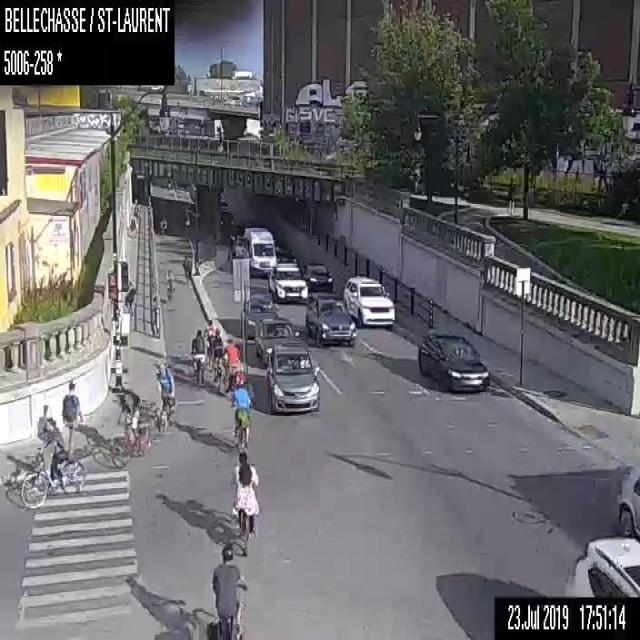cyclist: (21, 416, 85, 507), (211, 542, 247, 638), (114, 388, 154, 465), (231, 452, 258, 552), (154, 362, 175, 433), (231, 382, 251, 450), (220, 337, 239, 399), (209, 327, 223, 395), (190, 328, 205, 385), (203, 319, 214, 366), (165, 269, 175, 301), (182, 254, 190, 285), (160, 213, 166, 234)
pedestrian: (60, 378, 82, 454), (34, 401, 51, 464), (124, 278, 135, 315), (126, 212, 138, 236), (508, 176, 514, 213), (133, 198, 138, 220)
vehicle: (561, 536, 639, 596), (416, 332, 490, 392), (266, 346, 318, 411), (305, 292, 356, 346), (343, 276, 394, 326), (254, 317, 299, 365), (240, 294, 279, 337), (617, 465, 639, 538), (267, 262, 307, 300), (244, 227, 275, 274), (303, 264, 332, 291), (229, 234, 244, 271), (274, 245, 296, 262), (220, 210, 232, 228)
